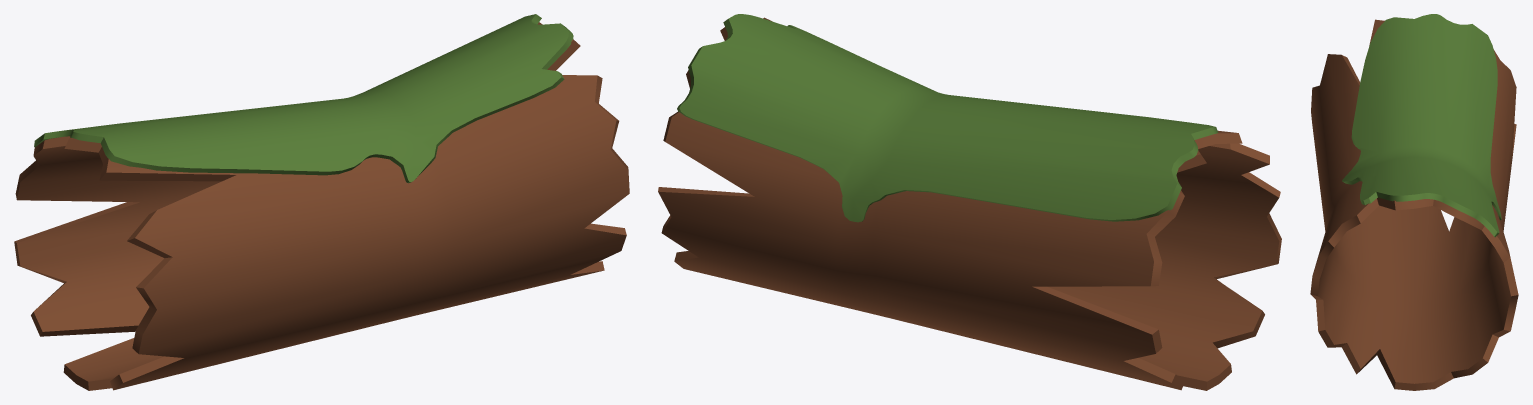
Rendered from Полено (2).fbx.
3 views of the same model, side by side, from view 1: azimuth 30°, elevation 25°; view 2: azimuth 150°, elevation 25°; view 3: azimuth 270°, elevation 25° (orthographic). The views are drawn at different scales.
Parts seen in each view (by area): view 1: Cylinder, Cylinder.002; view 2: Cylinder, Cylinder.002; view 3: Cylinder, Cylinder.002.
Part boxes in pixels (left/top/right/bottom): Cylinder: left=14, top=22, right=629, bottom=390; Cylinder.002: left=34, top=14, right=573, bottom=183; Cylinder: left=658, top=17, right=1281, bottom=390; Cylinder.002: left=677, top=14, right=1218, bottom=222; Cylinder: left=1310, top=19, right=1518, bottom=390; Cylinder.002: left=1342, top=14, right=1501, bottom=237.
Bounding box in the file's own units: 470 × 222 × 216.
